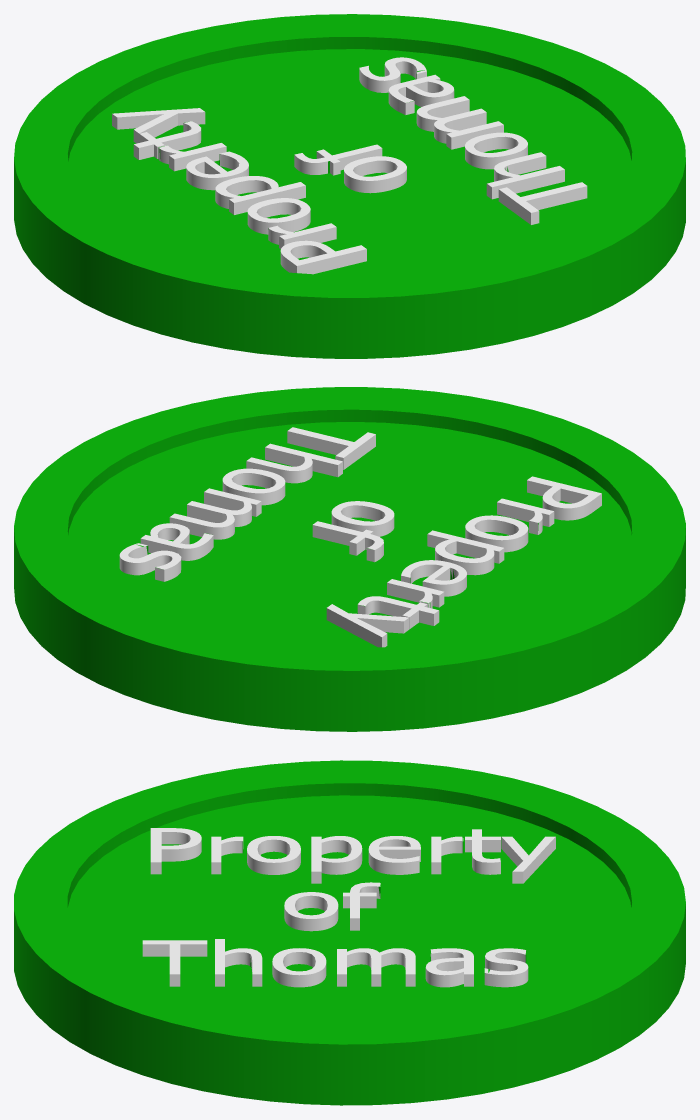
Rendered from property-of-thomas-back.glb.
3 views of the same model, one above another, from view 1: azimuth 30°, elevation 25°; view 2: azimuth 150°, elevation 25°; view 3: azimuth 270°, elevation 25° (orthographic).
Parts seen in each view (by area): view 1: Solid1; view 2: Solid1; view 3: Solid1.
Boxes of the visible parts, left/top/right/bottom form: Solid1: left=14, top=14, right=685, bottom=358; Solid1: left=14, top=387, right=685, bottom=731; Solid1: left=14, top=760, right=685, bottom=1105.
Size of the model in its own units: 0.025 by 0.0025 by 0.025.
